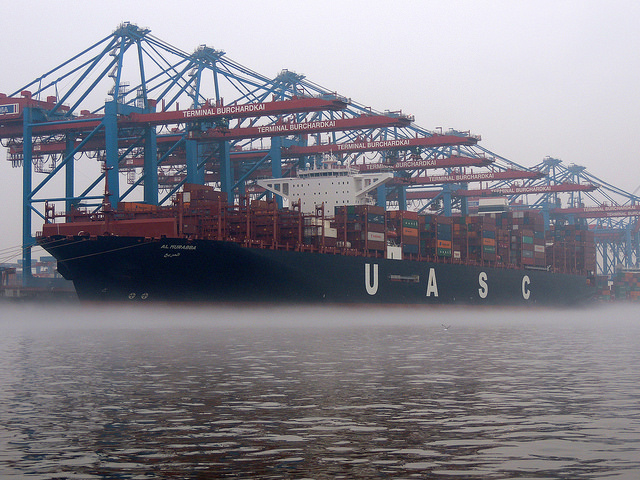container_ship: (45, 158, 603, 304)
